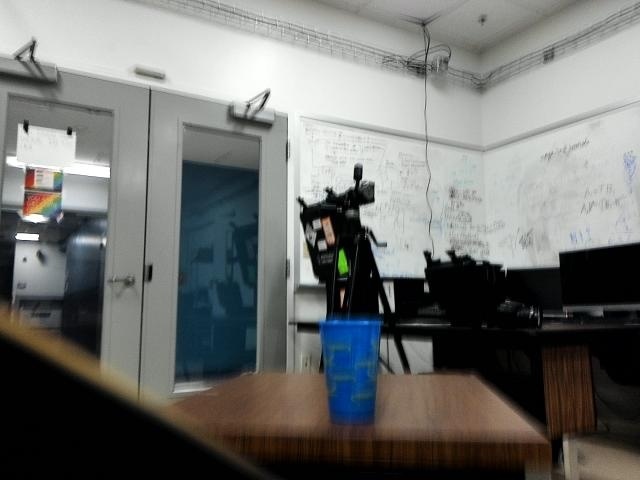water_cup: (310, 316, 391, 423)
